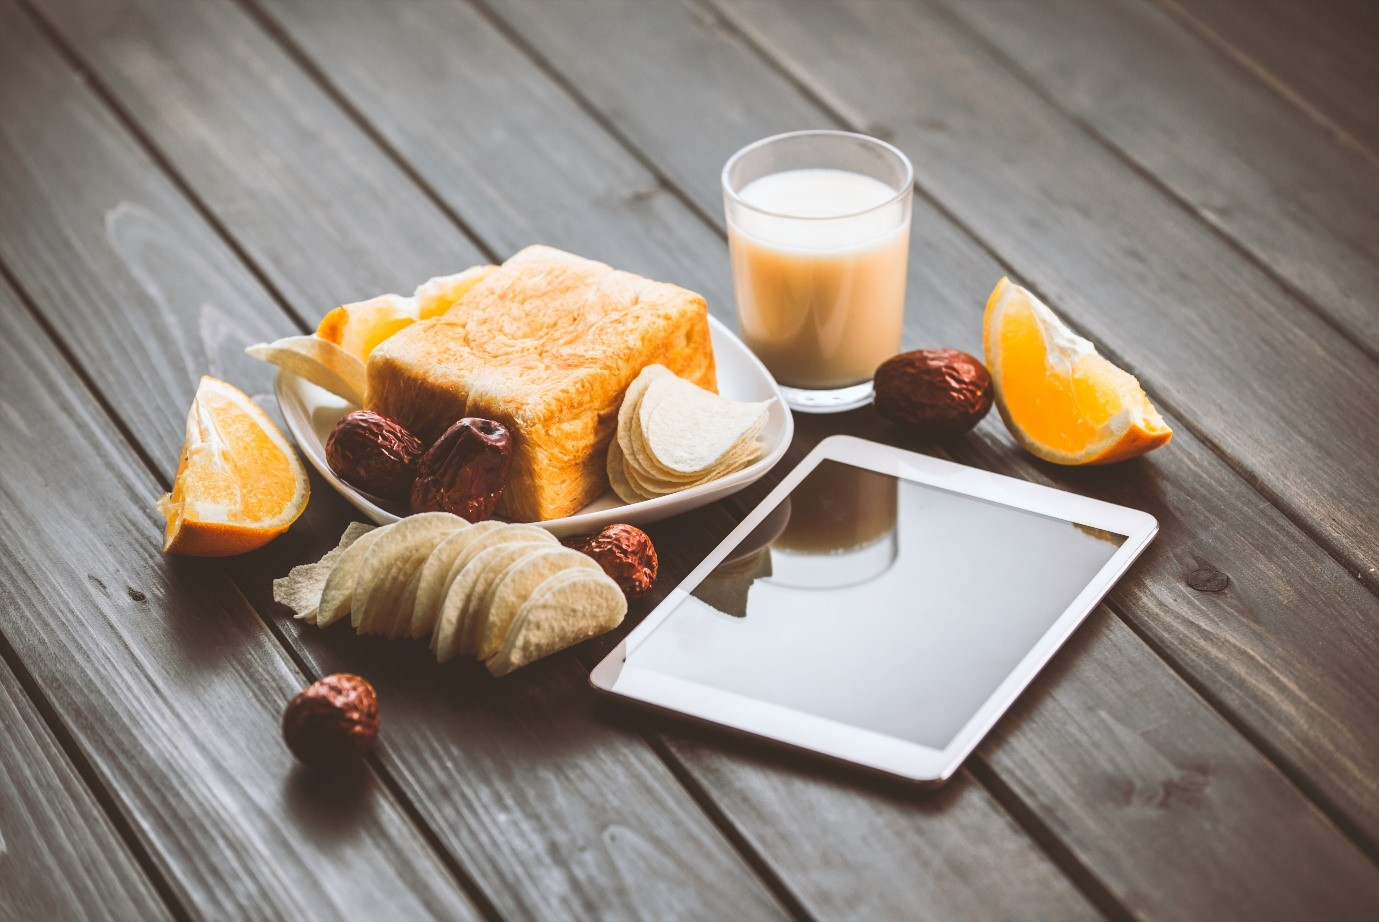slice of bread: (373, 243, 715, 517)
